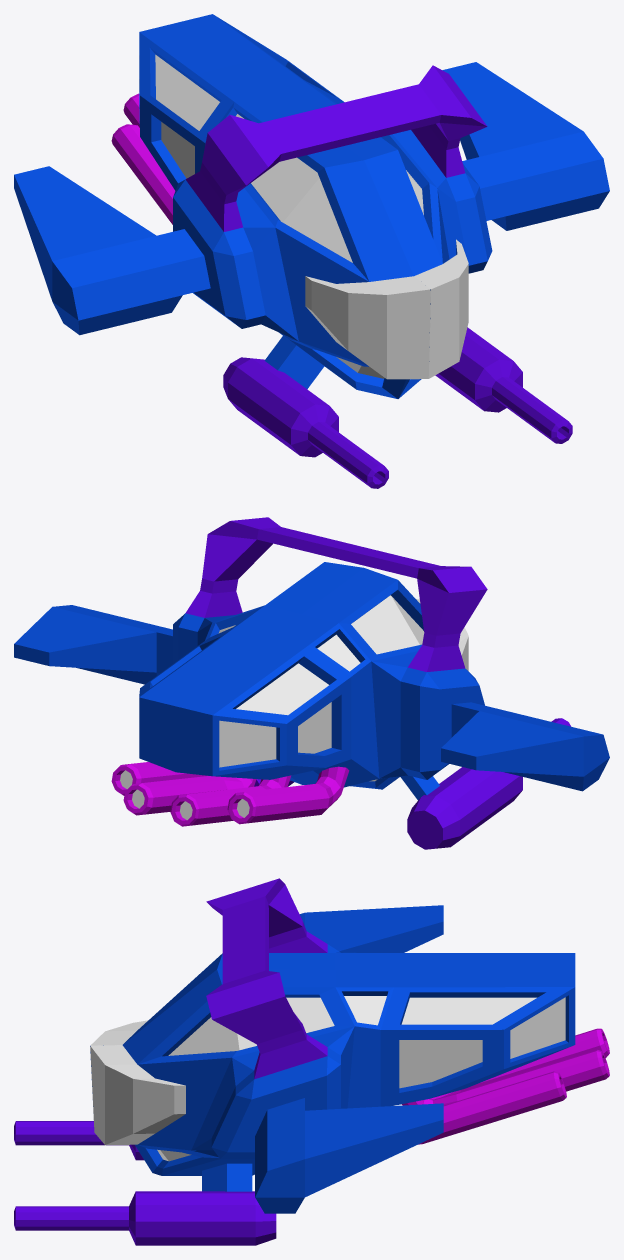
The model's file is counter_drone.fbx.
3 views of the same model, one above another, from view 1: azimuth 30°, elevation 25°; view 2: azimuth 150°, elevation 25°; view 3: azimuth 270°, elevation 25° (orthographic). The views are drawn at different scales.
Visible parts, largest first — view 1: Cube; view 2: Cube; view 3: Cube.
Boxes of the visible parts, box(x1,y1,x2,y2) form: Cube: box(14, 14, 609, 488); Cube: box(14, 517, 609, 849); Cube: box(14, 878, 609, 1245).
Size of the model in its own units: 408 by 212 by 416.
